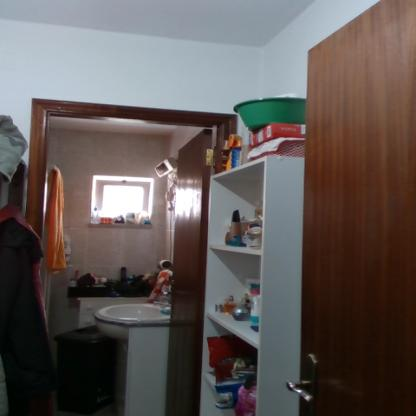open: (7, 89, 229, 400)
